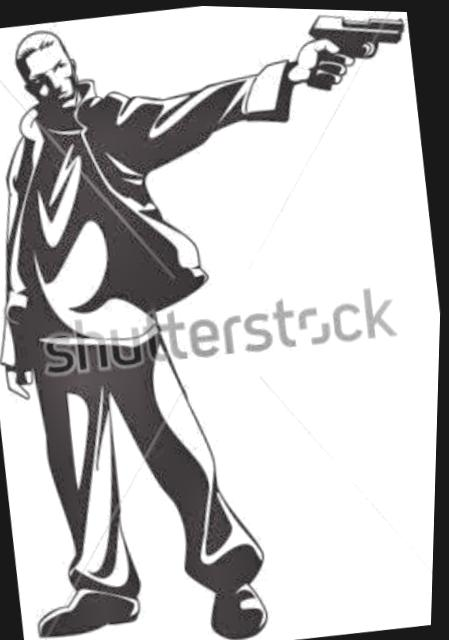pistol: (289, 7, 408, 89)
